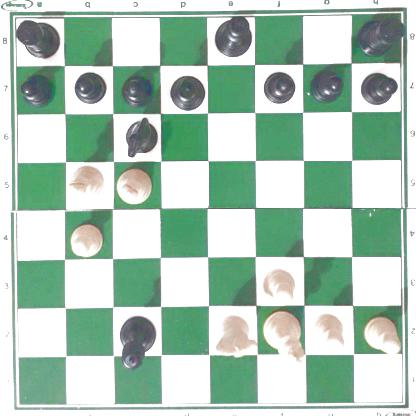black-bishop: (168, 75, 207, 113)
black-king: (212, 15, 253, 58)
black-knight: (122, 116, 158, 158)
black-pawn: (360, 69, 396, 105), (310, 68, 344, 102), (20, 72, 54, 104), (73, 70, 105, 104), (263, 69, 295, 103), (121, 72, 153, 105)
black-queen: (116, 313, 157, 370)
black-rook: (13, 15, 61, 58), (358, 14, 406, 55)
white-bishop: (67, 165, 106, 201), (116, 168, 152, 206)
white-king: (263, 311, 303, 366)
white-knight: (215, 314, 258, 359)
white-pawn: (310, 312, 346, 352), (363, 315, 400, 352), (261, 265, 296, 303), (69, 223, 102, 256)
